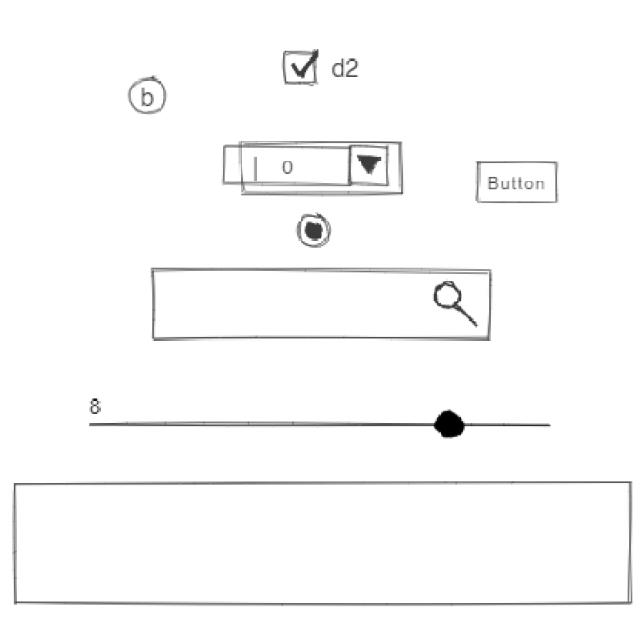button: (474, 158, 561, 206)
checkbox: (280, 46, 362, 89)
container: (9, 479, 635, 609)
icon-button: (127, 75, 167, 115)
radio: (104, 408, 553, 439), (294, 211, 333, 249)
search: (148, 264, 494, 343)
select: (218, 143, 391, 188)
